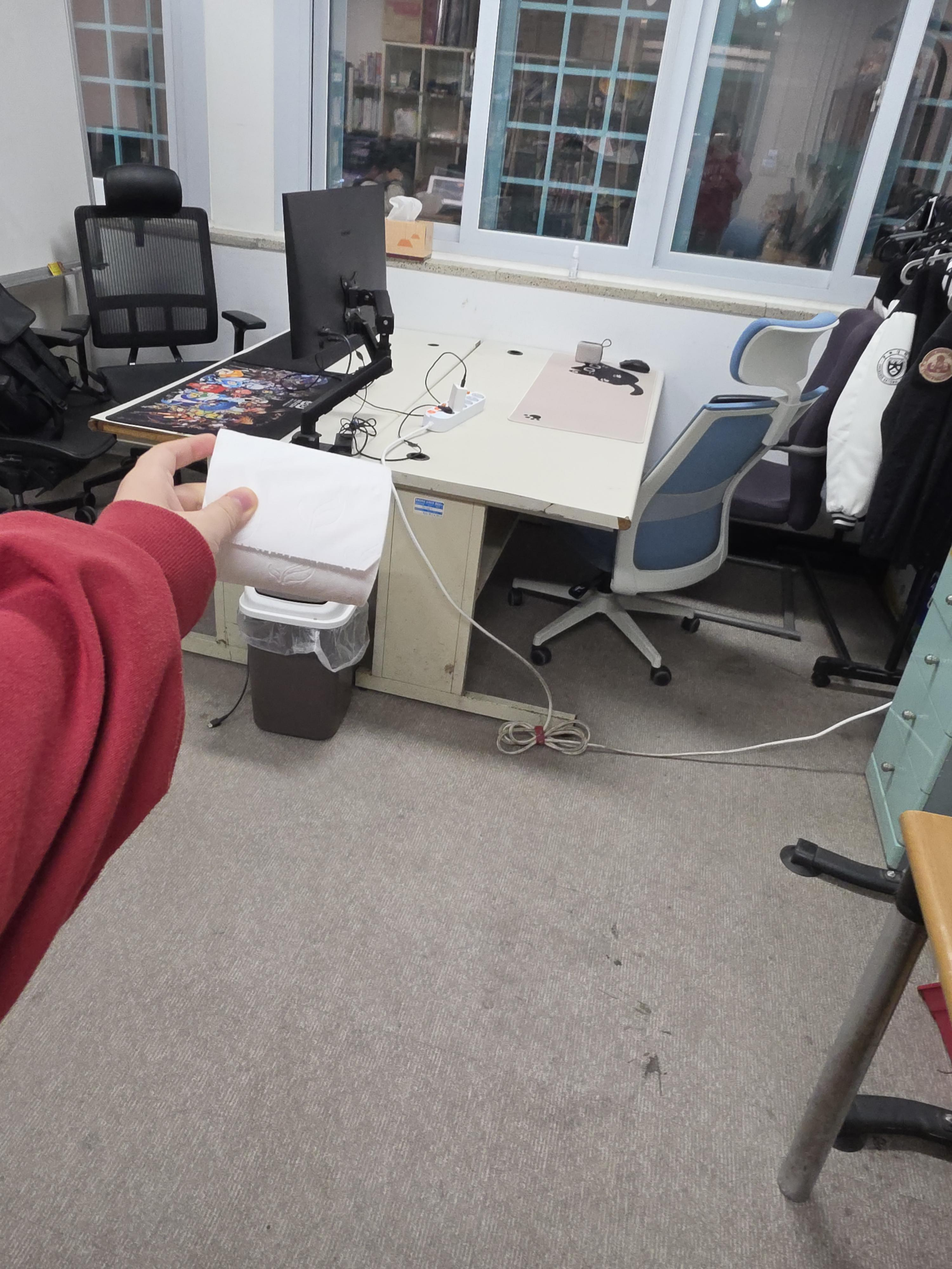tissue: (202, 428, 392, 606), (384, 195, 434, 259)
